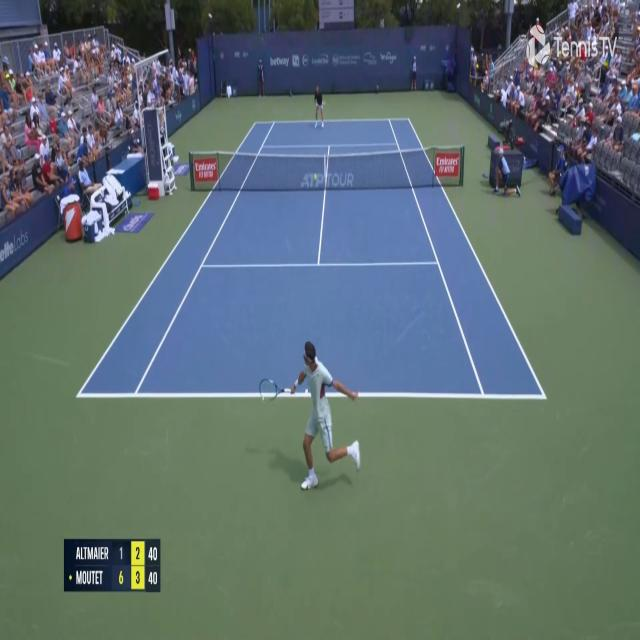tennis-player: (256, 336, 361, 495), (312, 83, 326, 130)
